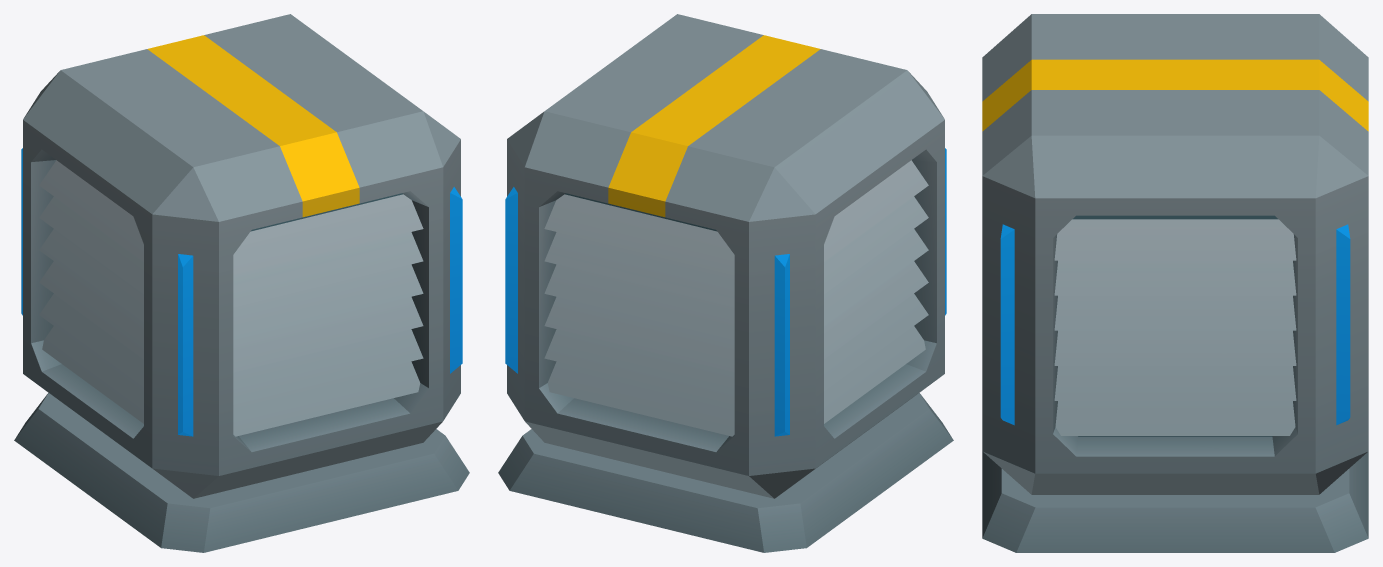
The model's file is Ventilation_011.glb.
3 renders of one model, left to right at view 1: azimuth 30°, elevation 25°; view 2: azimuth 150°, elevation 25°; view 3: azimuth 270°, elevation 25°, orthographic. The views are drawn at different scales.
Parts seen in each view (by area): view 1: Ventilation_011; view 2: Ventilation_011; view 3: Ventilation_011.
Boxes of the visible parts, <box> form: Ventilation_011: <box>14,14,469,552</box>; Ventilation_011: <box>498,14,953,552</box>; Ventilation_011: <box>982,14,1368,552</box>.
Bounding box in the file's own units: 0.7504 × 0.85 × 0.7504.
2 materials, 2 textured.
